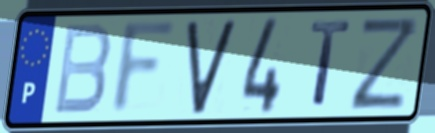4: (240, 14, 283, 117)
B: (50, 21, 114, 118)
F: (106, 17, 182, 119)
T: (308, 18, 354, 111)
V: (184, 16, 239, 117)
Z: (348, 15, 424, 113)
